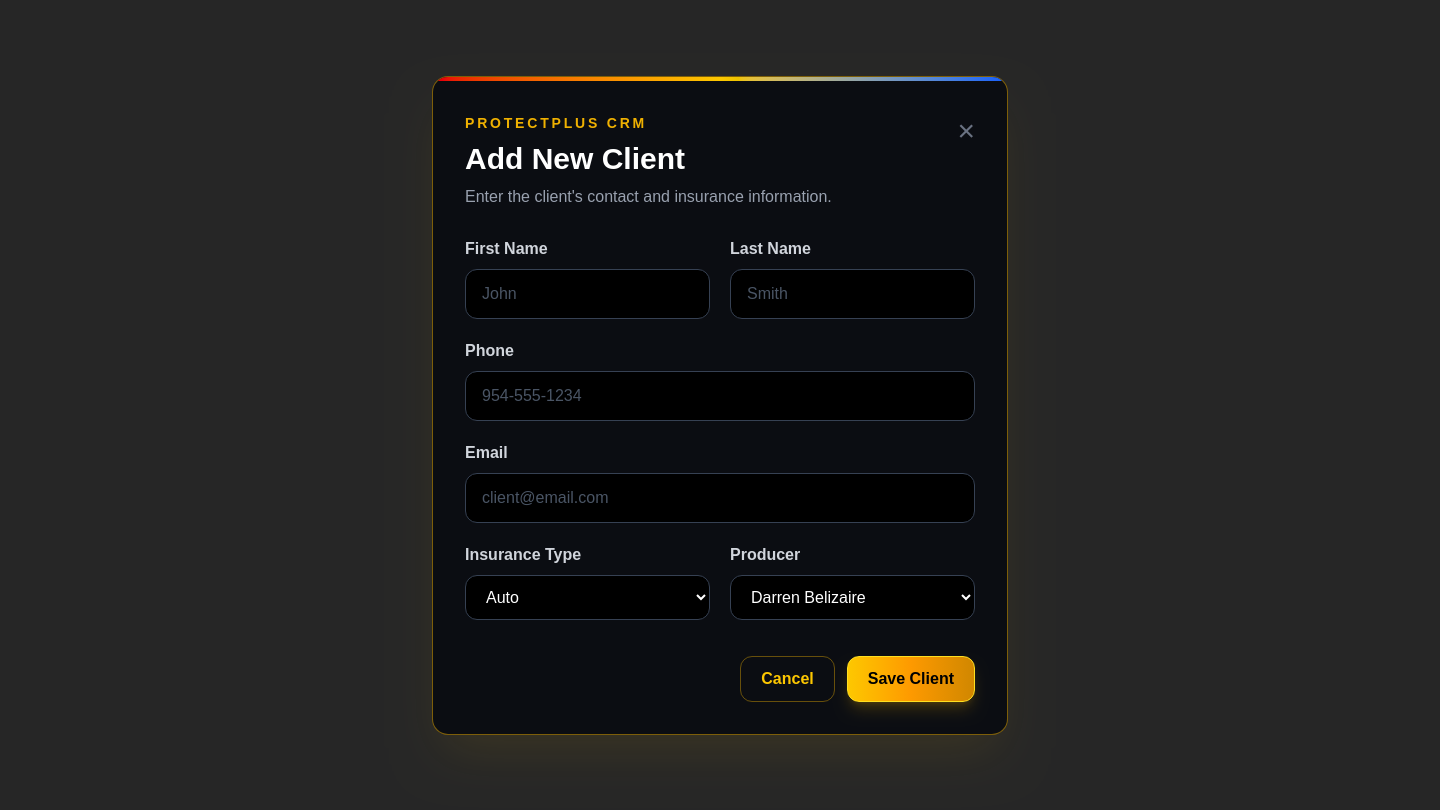
Test: AddClientModal › shows an inline error and keeps the modal open when the save fails
Type "Jane" into the field with placeholder "John" at [588, 294], box [465,268,710,318]
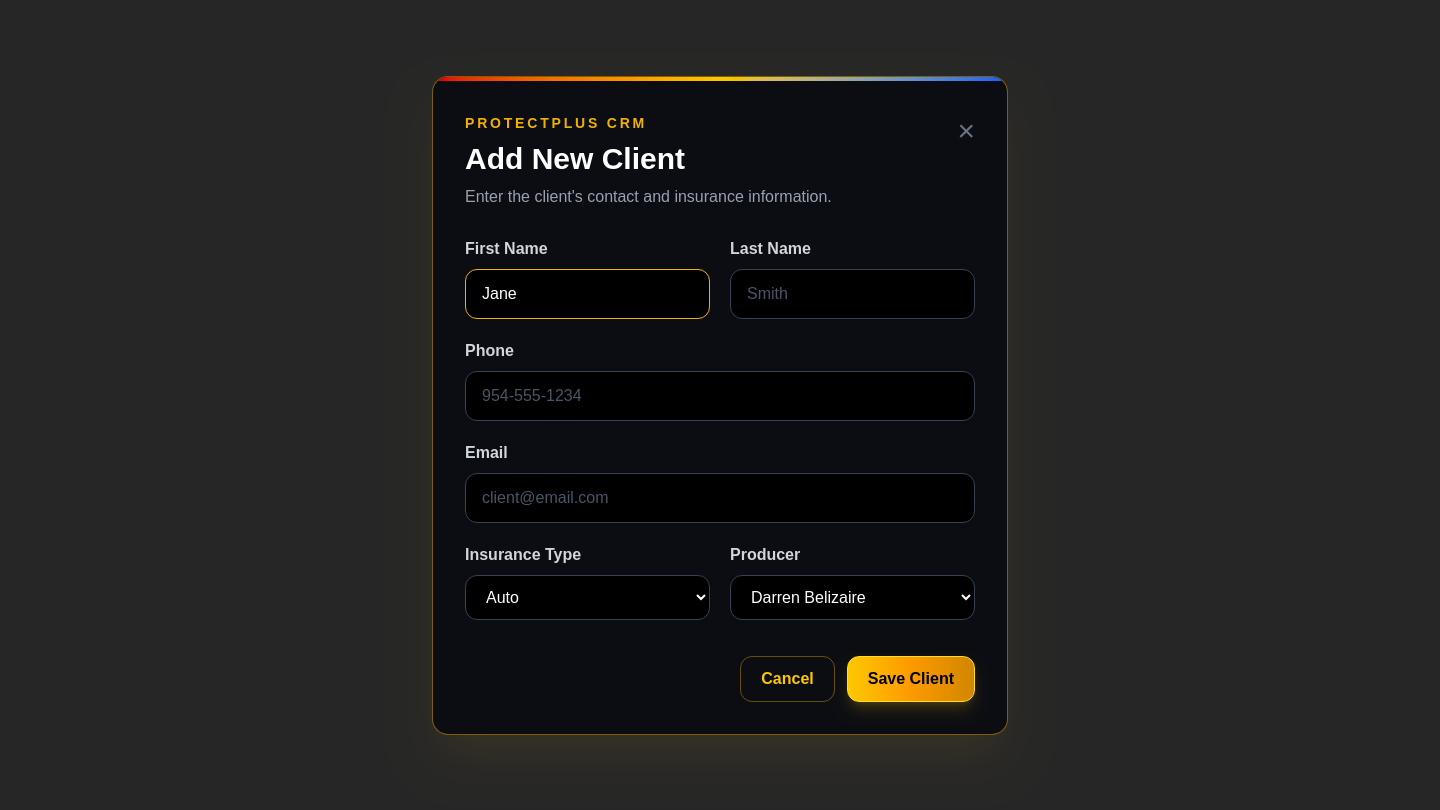
Type "Doe" into the field with placeholder "Smith" at [852, 294], box [730,268,975,318]
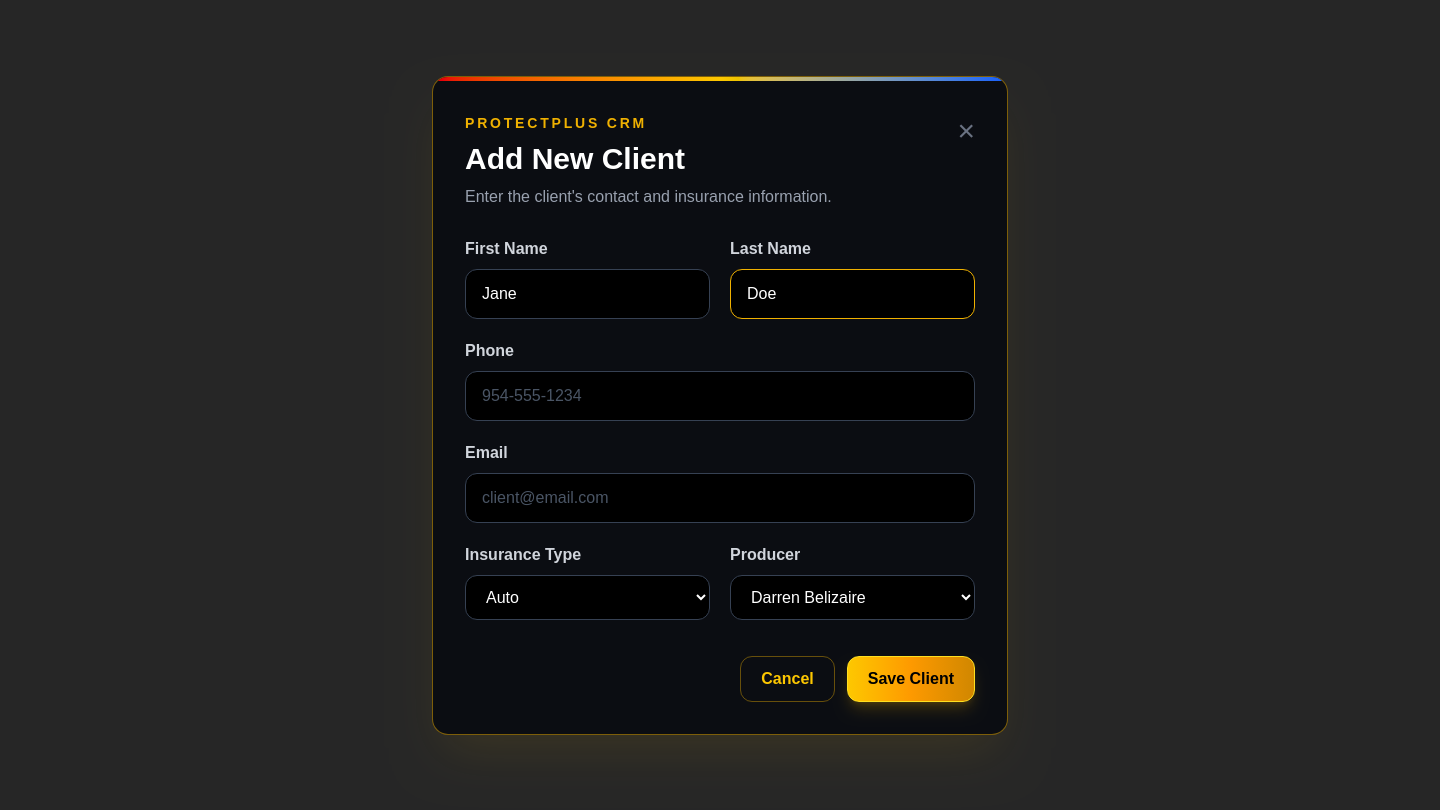
Type "9545550001" into the field with placeholder "954-555-1234" at [720, 396], box [465,370,975,420]
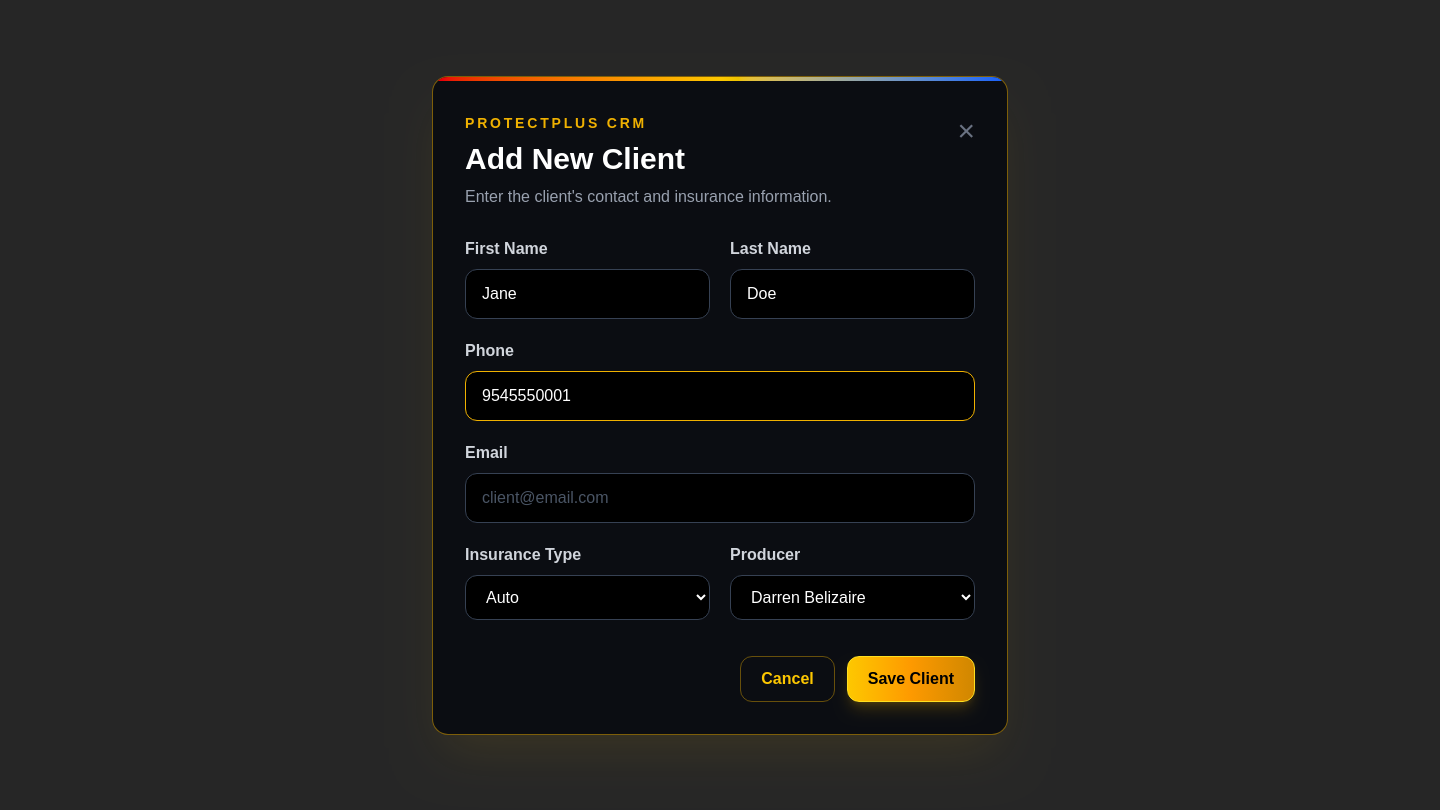
Type "jane@doe.com" into the field with placeholder "client@email.com" at [720, 498], box [465,472,975,522]
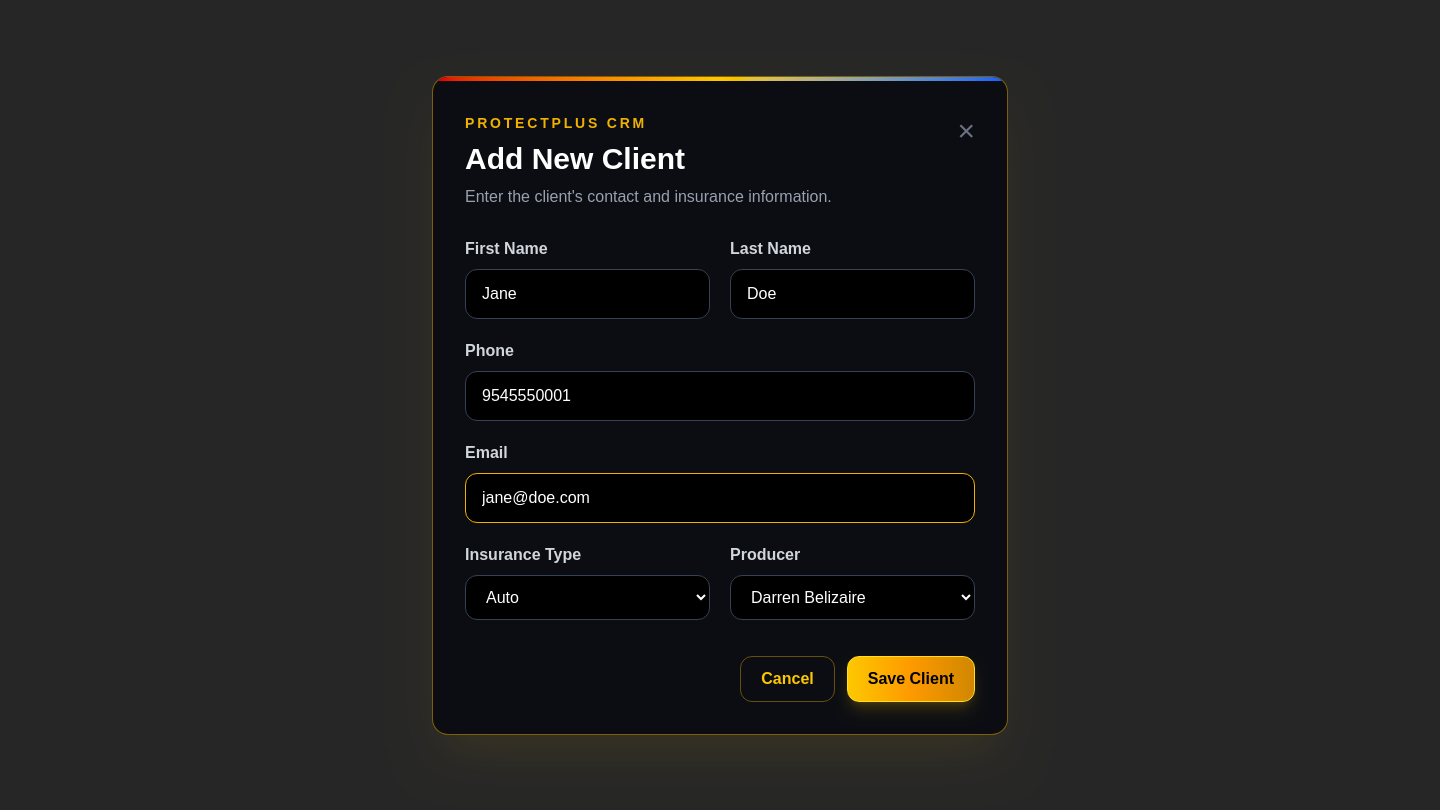
Click the button "Save Client" at [911, 678], box [847,656,975,702]
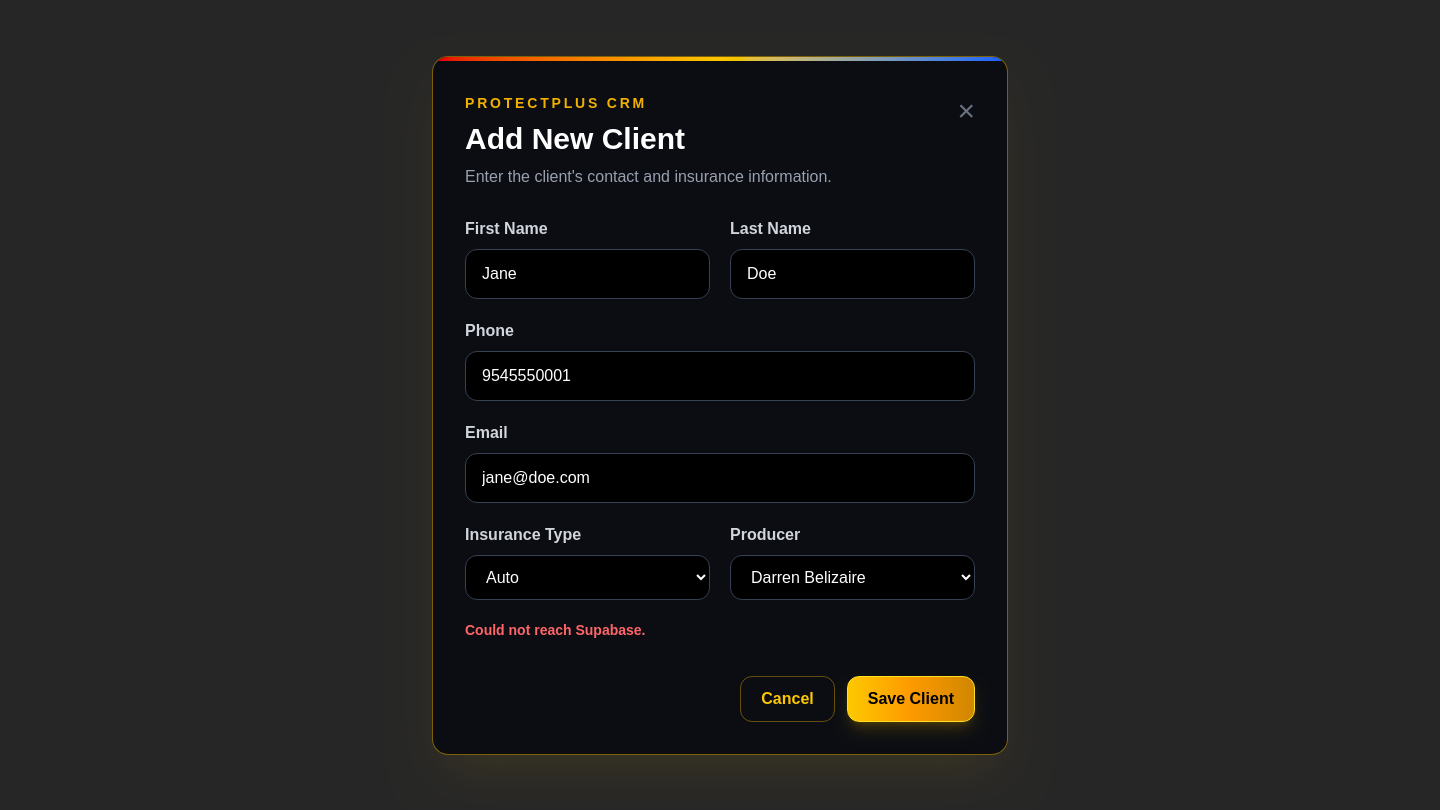
Expected: the text "Could not reach Supabase." is shown, [465,622,646,638]
